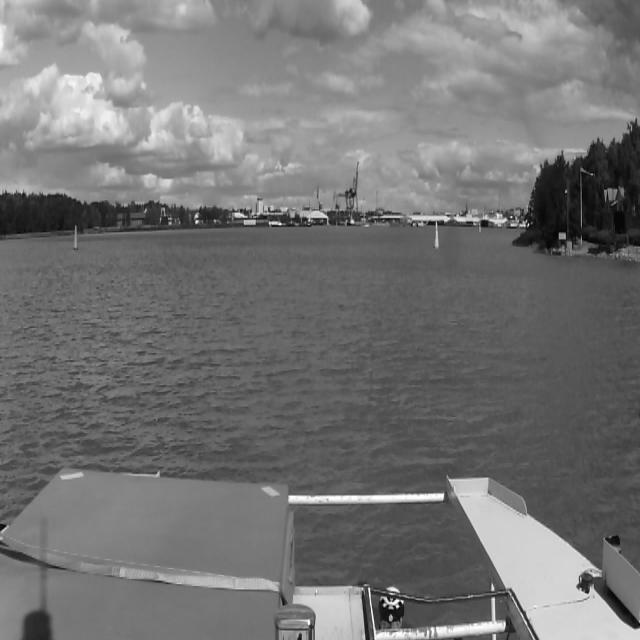buoy: (331, 216, 339, 234), (434, 221, 439, 249), (73, 225, 78, 250), (479, 225, 481, 233)
